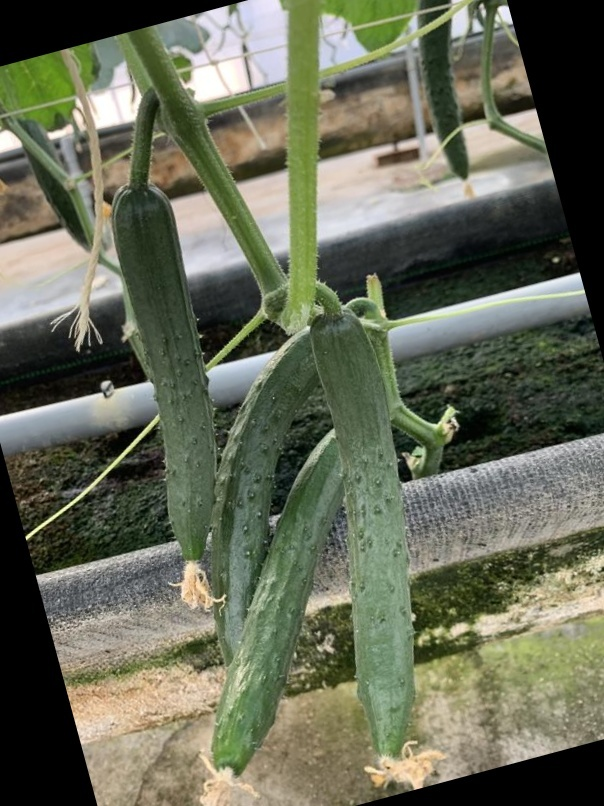mature: (193, 425, 348, 778), (305, 313, 418, 767), (109, 182, 217, 574), (213, 324, 319, 664)
